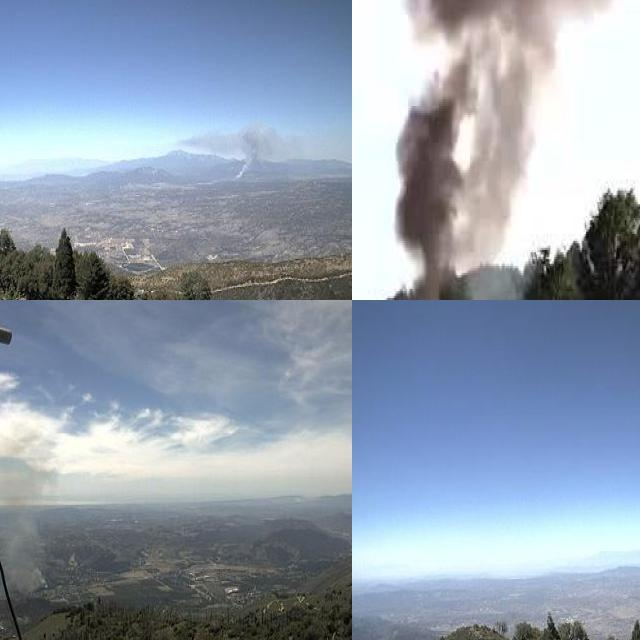smoke: (392, 0, 618, 300), (0, 425, 63, 595), (178, 123, 302, 178)
